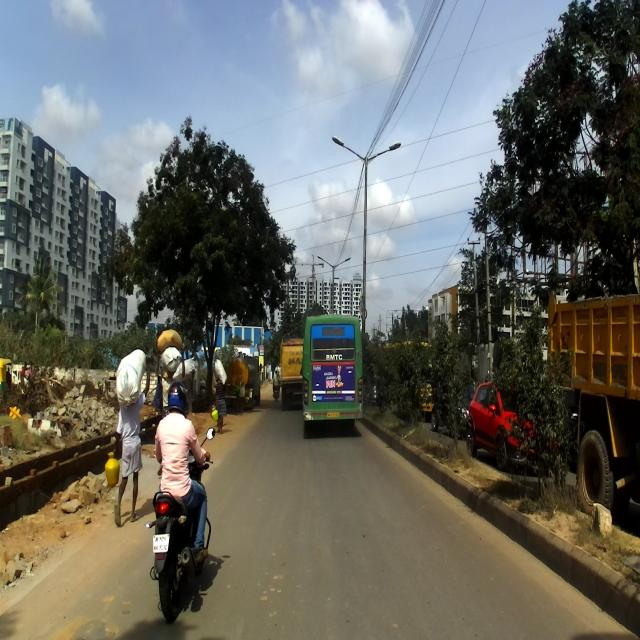Car: (466, 380, 559, 473)
motorcycle_Honda: (147, 424, 217, 624)
